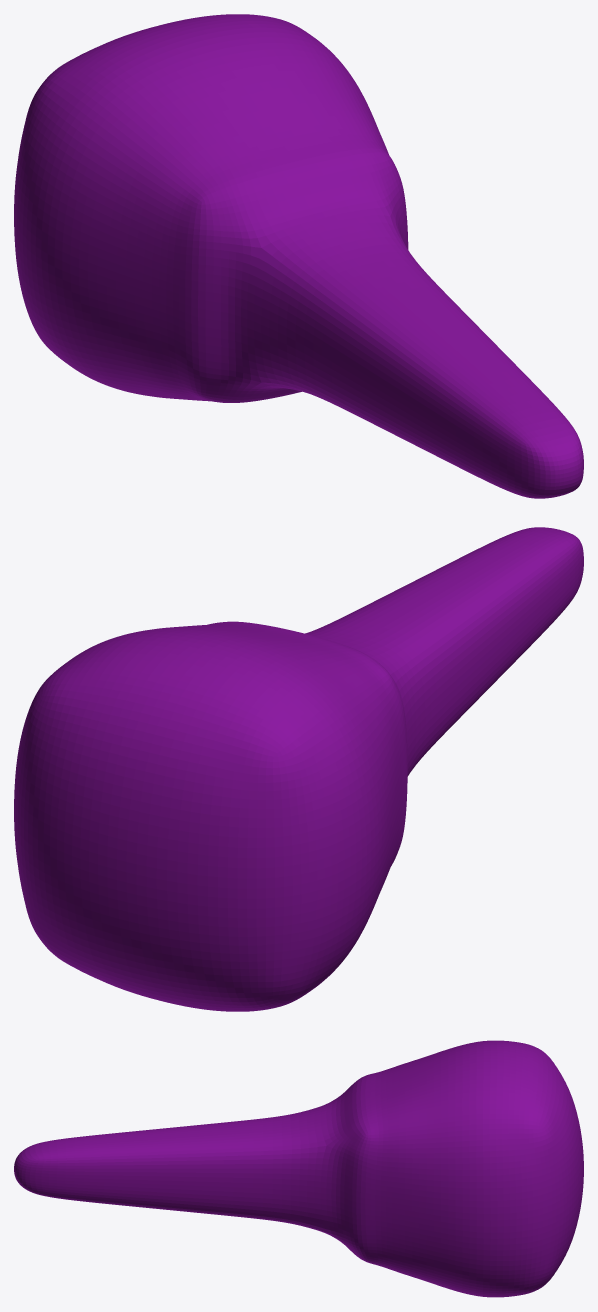
The model's file is Tiro_Inimigo.gltf.
The picture shows the model from 3 angles, top to bottom: view 1: azimuth 30°, elevation 25°; view 2: azimuth 150°, elevation 25°; view 3: azimuth 270°, elevation 25°; orthographic projection. The views are drawn at different scales.
Parts seen in each view (by area): view 1: Cubo; view 2: Cubo; view 3: Cubo.
Boxes of the visible parts, box(x1,y1,x2,y2) form: Cubo: box(14, 14, 583, 498); Cubo: box(14, 527, 583, 1011); Cubo: box(14, 1040, 583, 1297).
Bounding box in the file's own units: 2.21 × 2.21 × 5.18.
